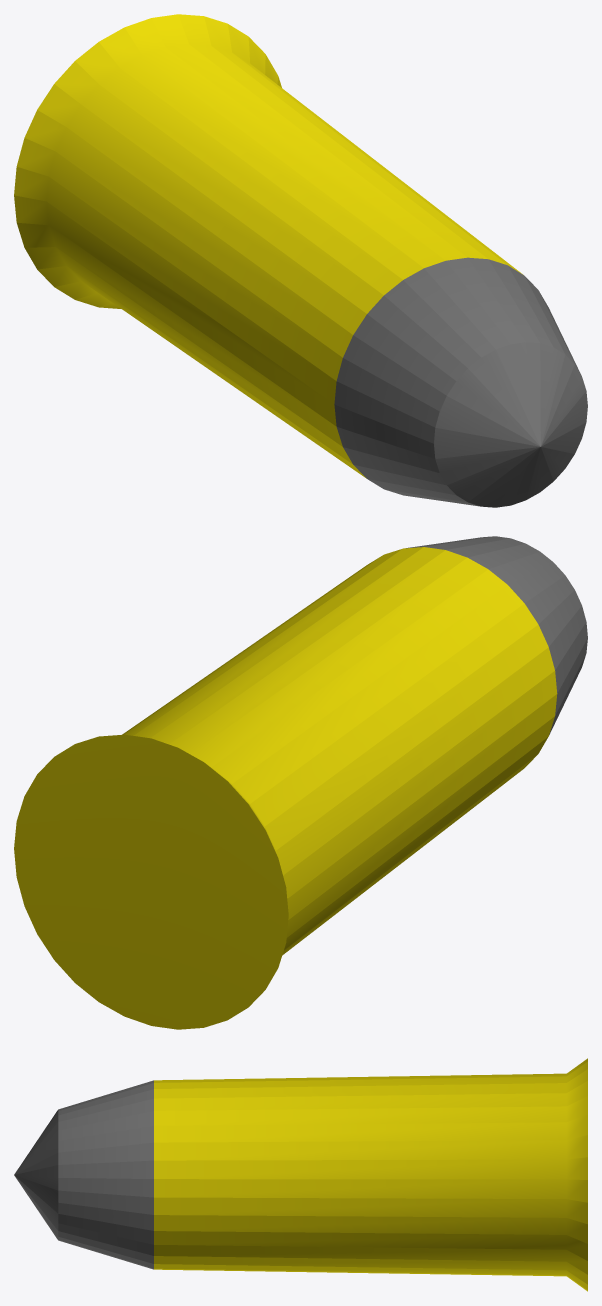
The model's file is bullet.fbx.
3 views of the same model, one above another, from view 1: azimuth 30°, elevation 25°; view 2: azimuth 150°, elevation 25°; view 3: azimuth 270°, elevation 25° (orthographic). The views are drawn at different scales.
Visible parts, largest first — view 1: Cylinder; view 2: Cylinder; view 3: Cylinder.
Part boxes in pixels (left/top/right/bottom): Cylinder: left=14, top=14, right=587, bottom=507; Cylinder: left=14, top=536, right=587, bottom=1029; Cylinder: left=14, top=1058, right=587, bottom=1291.
Size of the model in its own units: 93.02 by 93.02 by 228.
